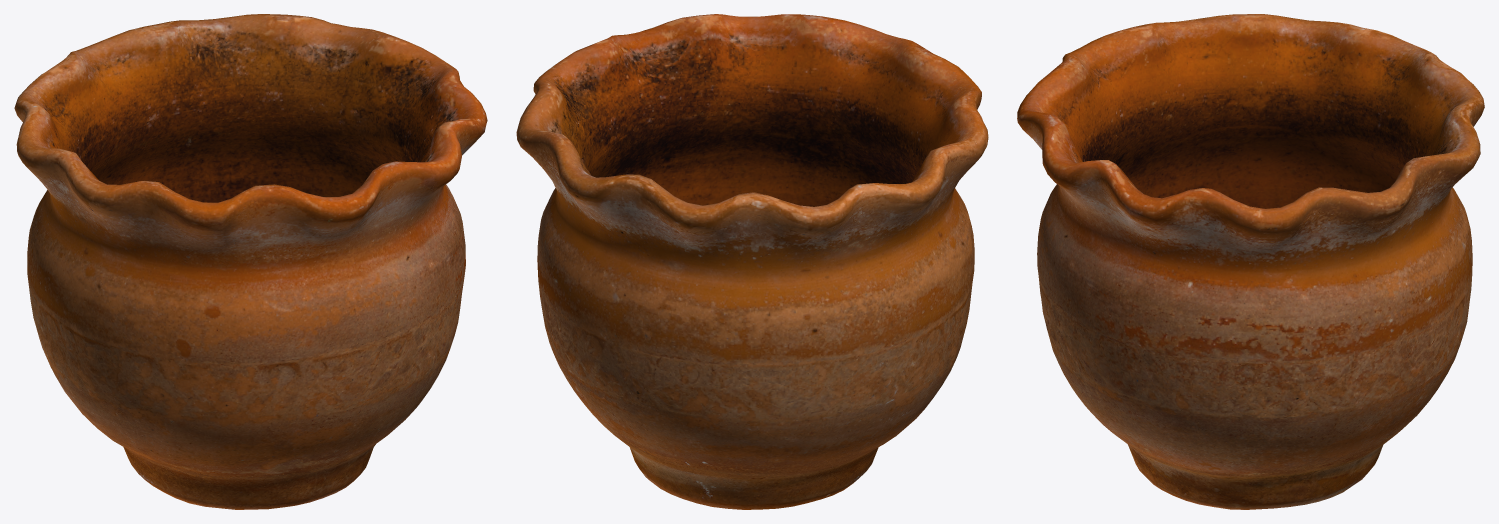
3 renders of one model, left to right at view 1: azimuth 30°, elevation 25°; view 2: azimuth 150°, elevation 25°; view 3: azimuth 270°, elevation 25°, orthographic.
Visible parts, largest first — view 1: Aset_clay_pot_S_uhckehojw_LOD0; view 2: Aset_clay_pot_S_uhckehojw_LOD0; view 3: Aset_clay_pot_S_uhckehojw_LOD0.
Part boxes in pixels (x1,y1,x2,y2): Aset_clay_pot_S_uhckehojw_LOD0: (14, 14, 487, 509); Aset_clay_pot_S_uhckehojw_LOD0: (516, 14, 988, 509); Aset_clay_pot_S_uhckehojw_LOD0: (1017, 14, 1484, 509).
Size of the model in its own units: 0.0458 by 0.045 by 0.0388.
Materials: 1 (1 with a texture image).
